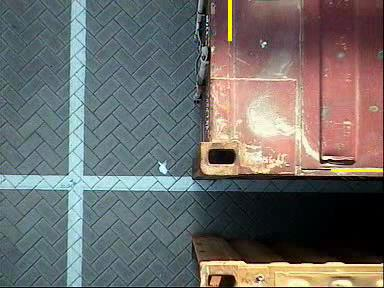groundmarker_2: (102, 158, 172, 219)
